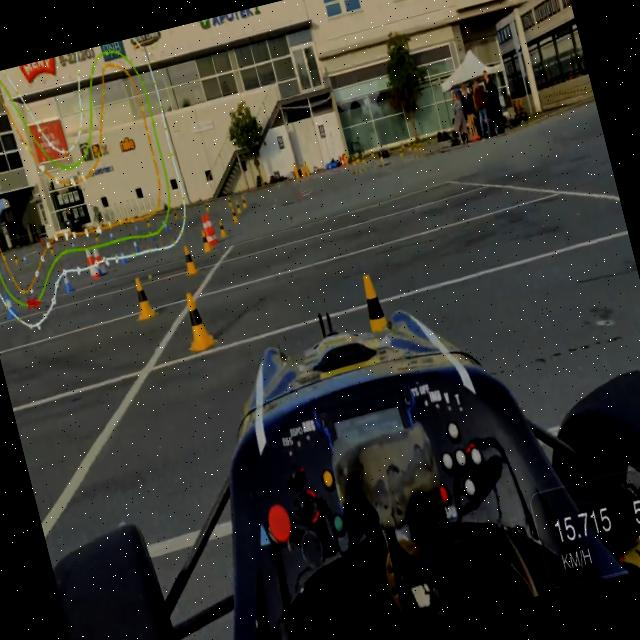blue_cone: (1, 292, 18, 320), (61, 270, 74, 294), (130, 238, 141, 258), (118, 246, 128, 265)
large_orange_cone: (89, 241, 107, 277), (82, 247, 100, 280), (204, 212, 219, 244), (200, 212, 213, 244)
yellow_cone: (176, 288, 218, 354), (355, 267, 390, 334), (127, 274, 158, 322), (179, 244, 198, 277), (198, 227, 212, 254), (216, 218, 228, 240), (232, 198, 242, 215), (230, 205, 238, 224), (240, 194, 248, 211), (204, 199, 212, 215), (172, 206, 179, 222), (144, 217, 152, 230), (226, 195, 233, 208)
